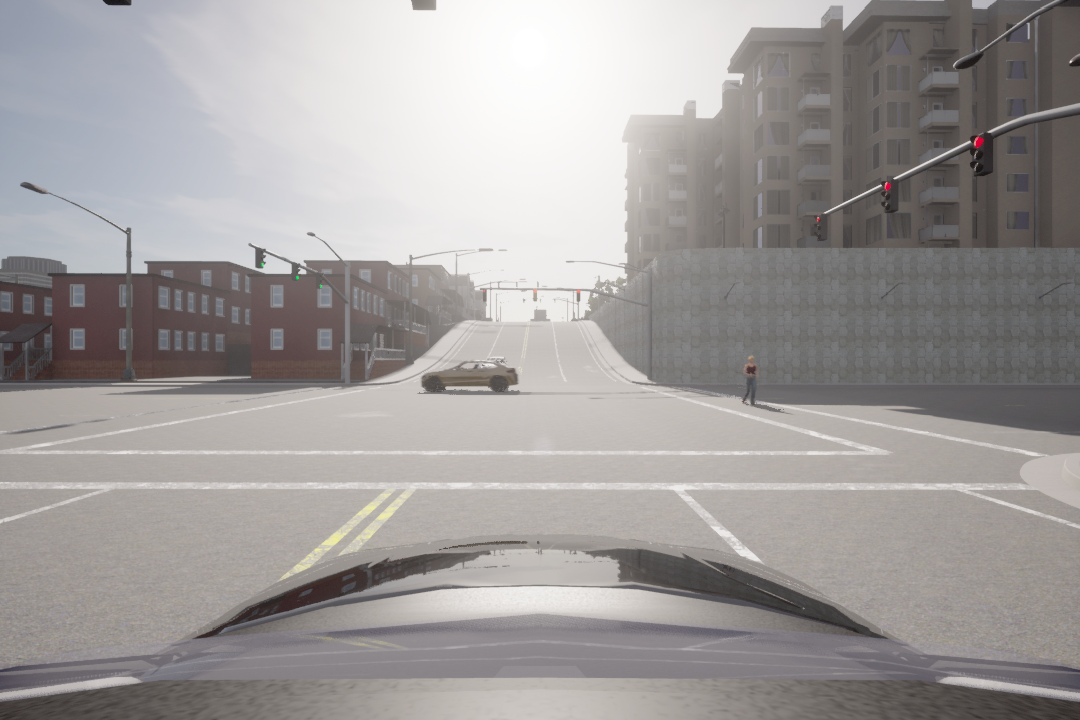TrafficLight: (878, 176, 903, 220), (970, 130, 990, 181), (811, 212, 829, 241), (254, 247, 269, 271), (292, 260, 302, 284), (315, 269, 324, 292)
